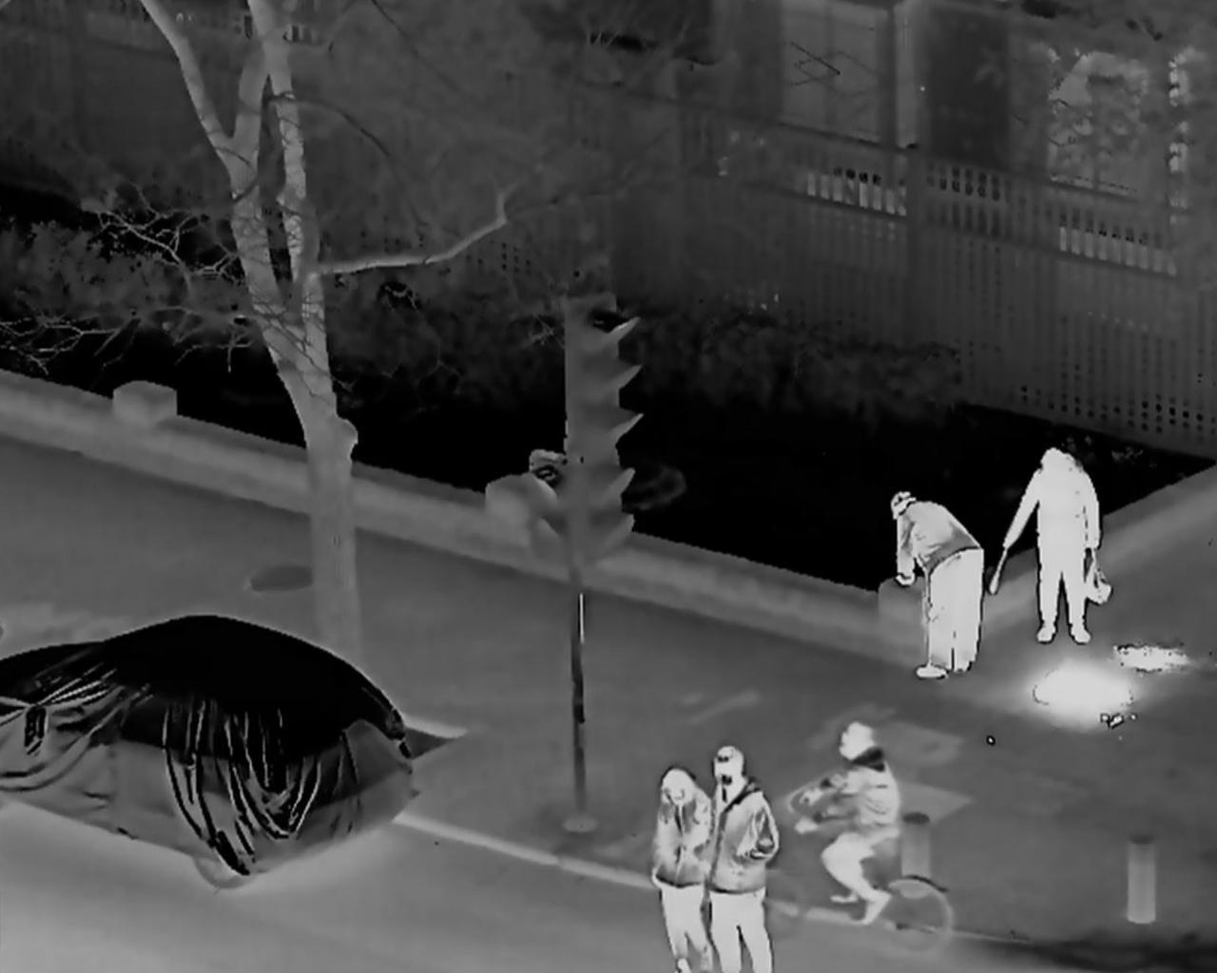person: (794, 723, 898, 928), (1002, 448, 1107, 645), (698, 751, 783, 973), (884, 487, 980, 678), (648, 767, 715, 973)
